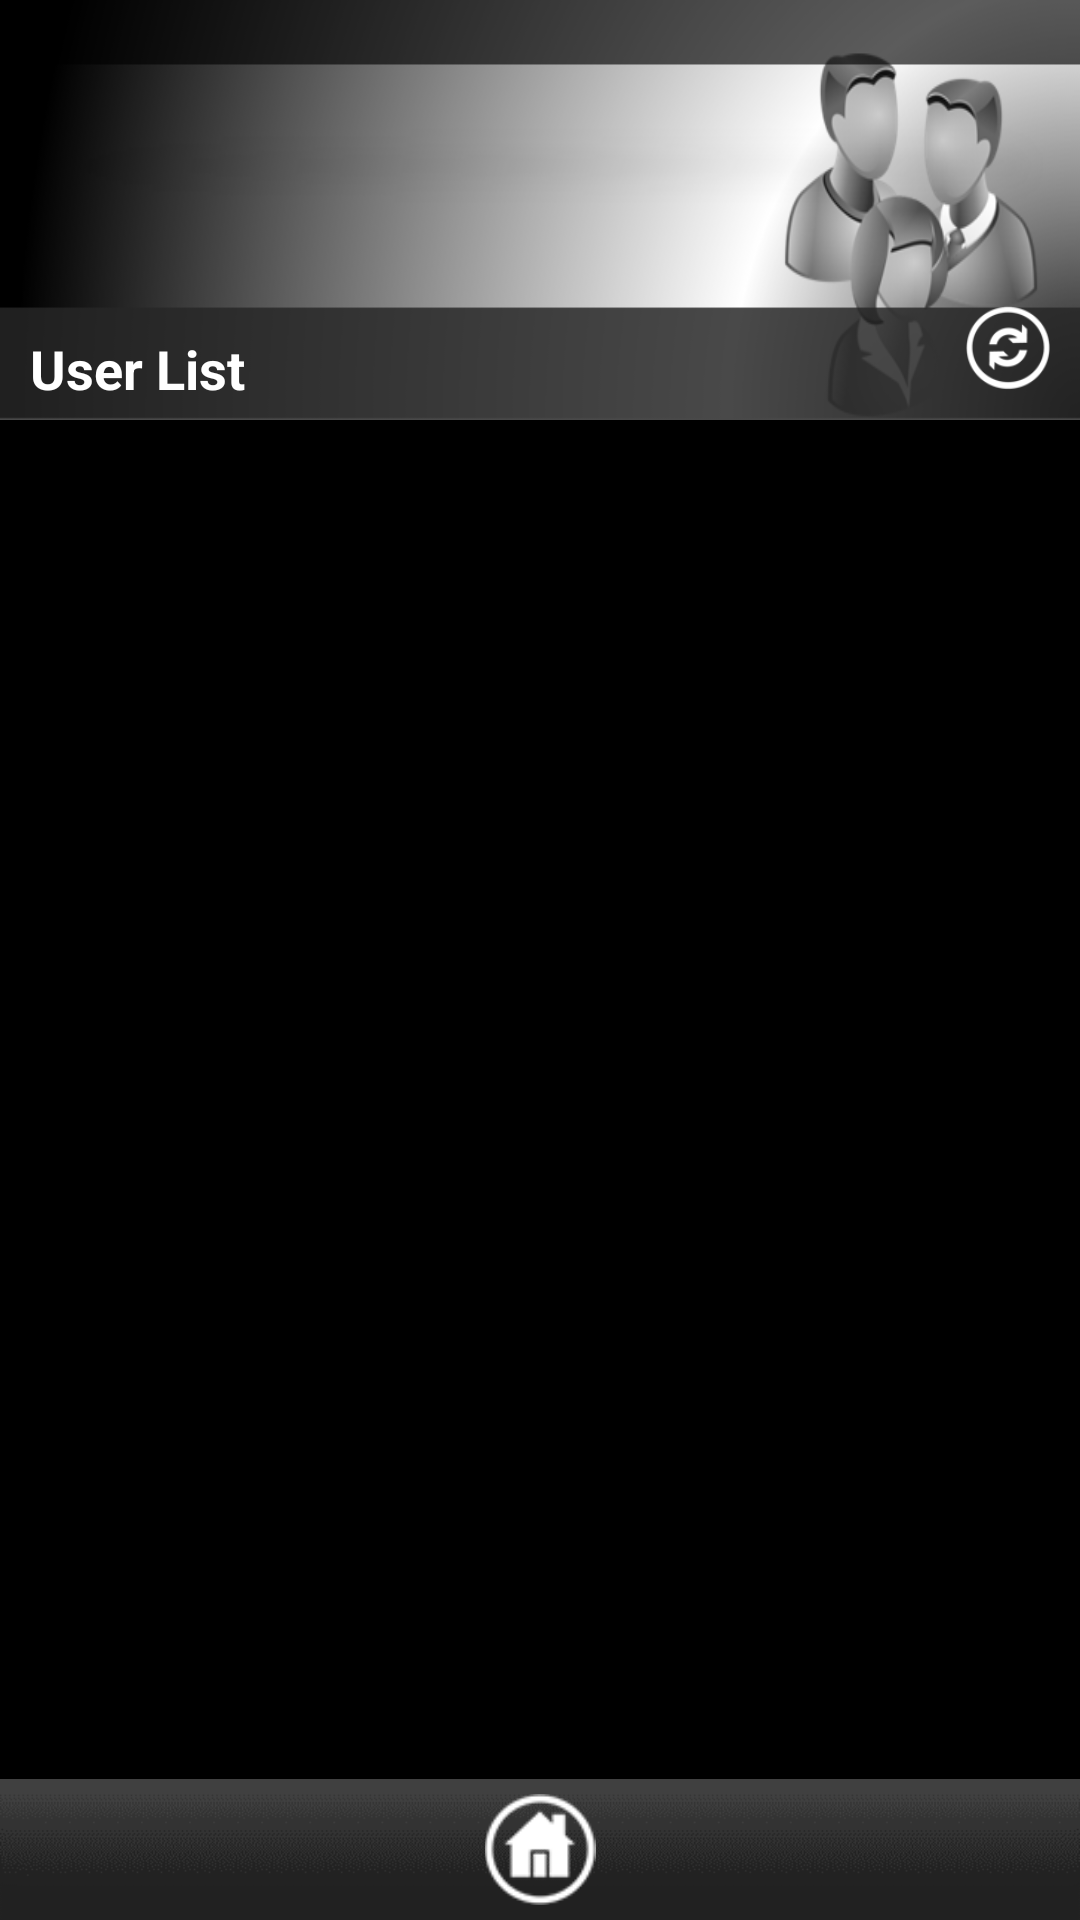

Icons on this 1080px×1920px Android screen, each with the point to tap as (x=x, y=y):
homeicon: (x=540, y=1849)
refresh: (x=1008, y=348)
